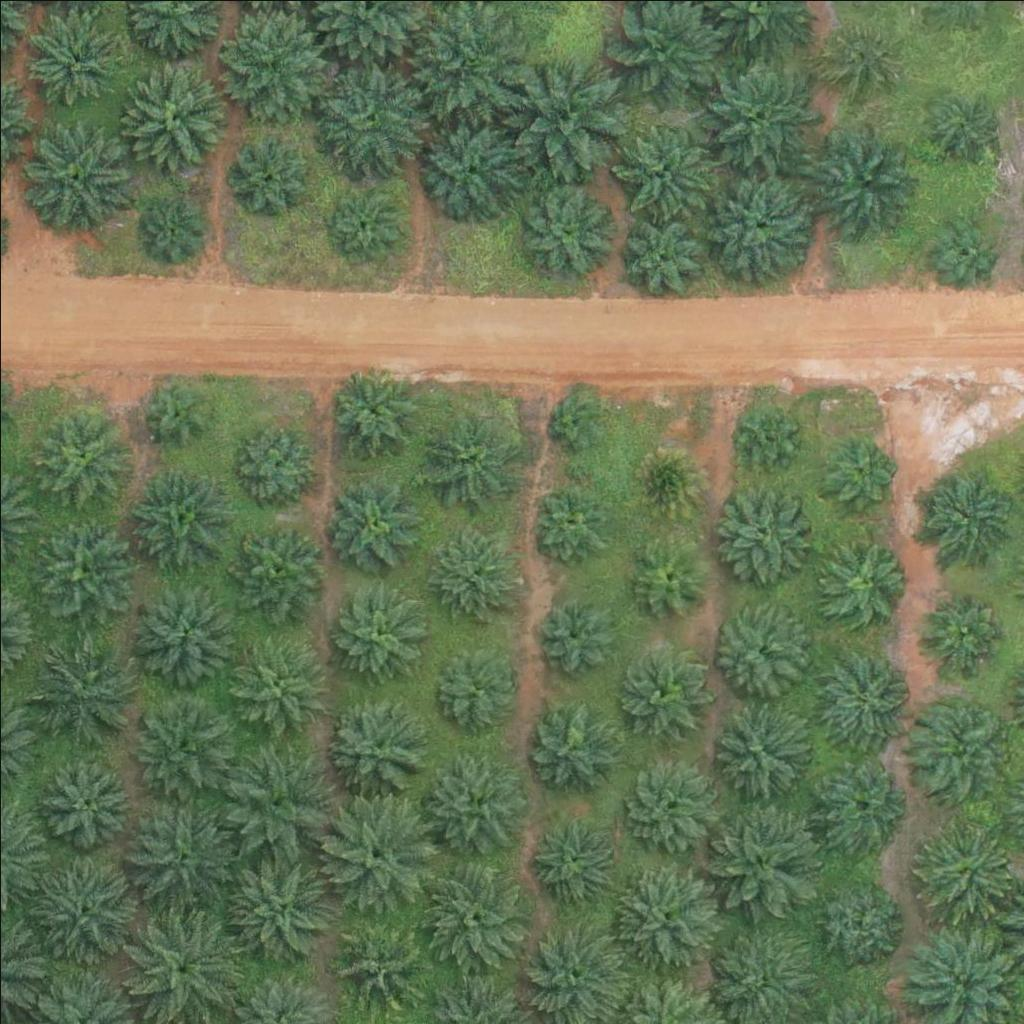Kelapa_Sawit: (803, 116, 928, 242), (696, 55, 821, 181), (504, 52, 629, 178), (125, 908, 238, 1021), (126, 803, 239, 916), (223, 854, 336, 967), (215, 6, 328, 119), (27, 849, 139, 962), (218, 747, 330, 860), (320, 798, 432, 911), (421, 859, 533, 972), (699, 796, 811, 909), (318, 65, 430, 178), (32, 644, 132, 745), (30, 518, 130, 619), (30, 406, 130, 507), (124, 694, 224, 795), (130, 586, 230, 687), (129, 464, 229, 565), (223, 637, 323, 738), (224, 520, 324, 621), (325, 695, 425, 796), (326, 579, 426, 680), (422, 751, 522, 852), (912, 464, 1012, 565), (711, 177, 811, 278), (123, 68, 223, 169), (21, 127, 121, 228), (27, 6, 127, 107), (323, 363, 423, 463), (417, 413, 517, 513), (615, 867, 715, 967), (617, 756, 717, 856), (913, 817, 1013, 917), (909, 685, 1009, 785), (707, 599, 807, 699), (711, 481, 811, 581), (612, 121, 712, 221), (422, 115, 522, 215), (334, 921, 422, 1010), (230, 419, 318, 507), (616, 648, 704, 736), (713, 708, 801, 796), (912, 587, 1000, 675), (43, 755, 130, 843), (326, 479, 413, 567), (432, 648, 519, 736), (430, 536, 517, 624), (533, 818, 620, 906), (527, 699, 614, 787), (812, 877, 899, 965), (811, 759, 898, 847), (820, 653, 907, 741), (814, 534, 901, 622), (619, 212, 706, 300), (525, 186, 612, 274), (629, 535, 704, 611), (539, 596, 614, 672), (326, 181, 401, 257), (137, 372, 212, 448), (532, 487, 607, 563), (628, 446, 703, 522), (730, 397, 805, 473), (822, 19, 897, 94), (229, 138, 304, 213), (820, 439, 895, 514), (928, 213, 1003, 288), (925, 83, 1000, 158), (140, 196, 203, 259), (543, 387, 605, 450)
